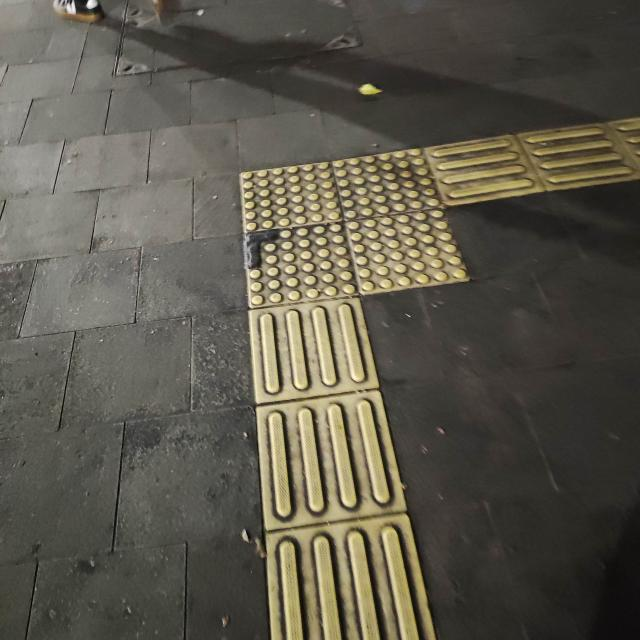kanan: (201, 106, 631, 333)
